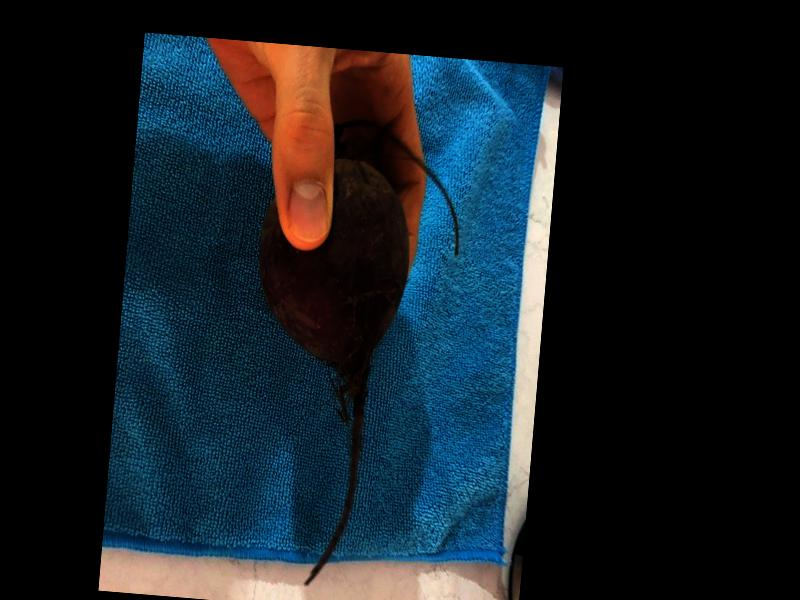Beet: (231, 113, 467, 597)
